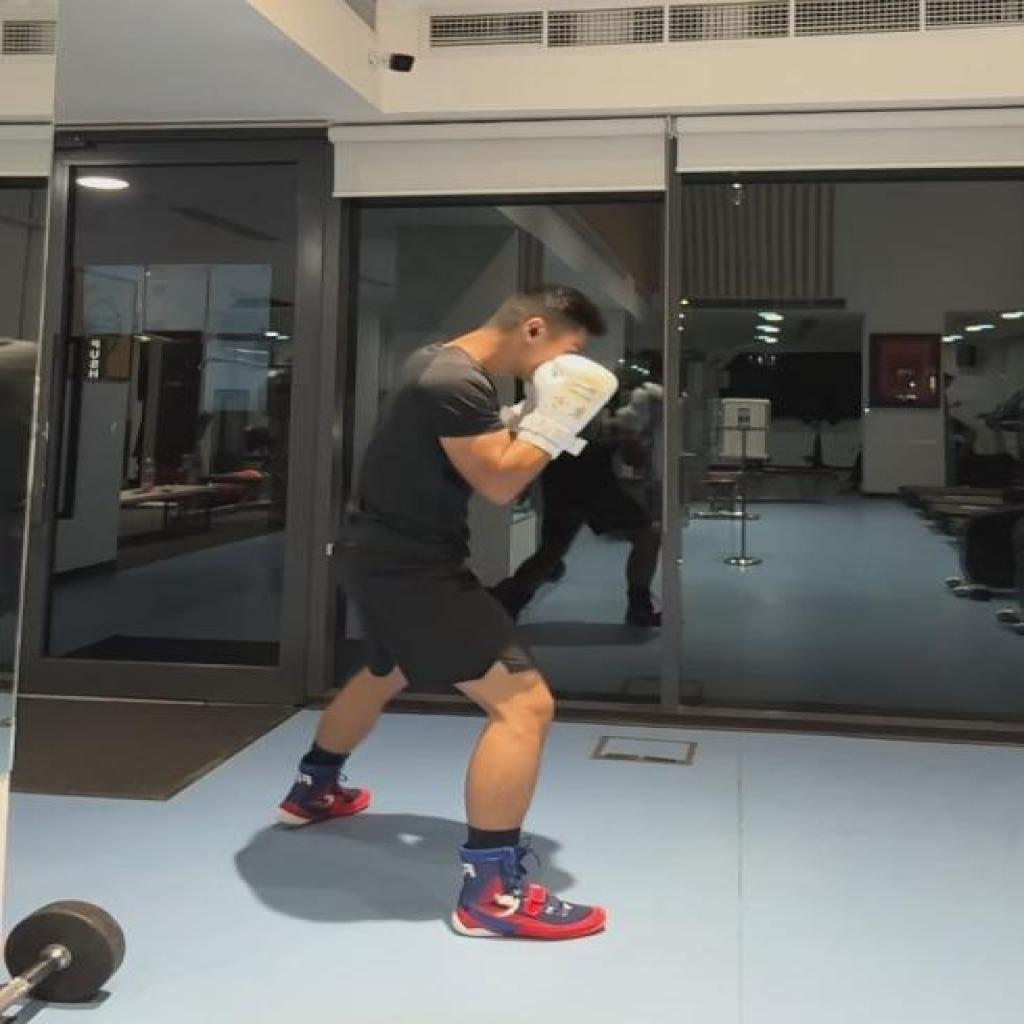no punch: (270, 274, 620, 942)
